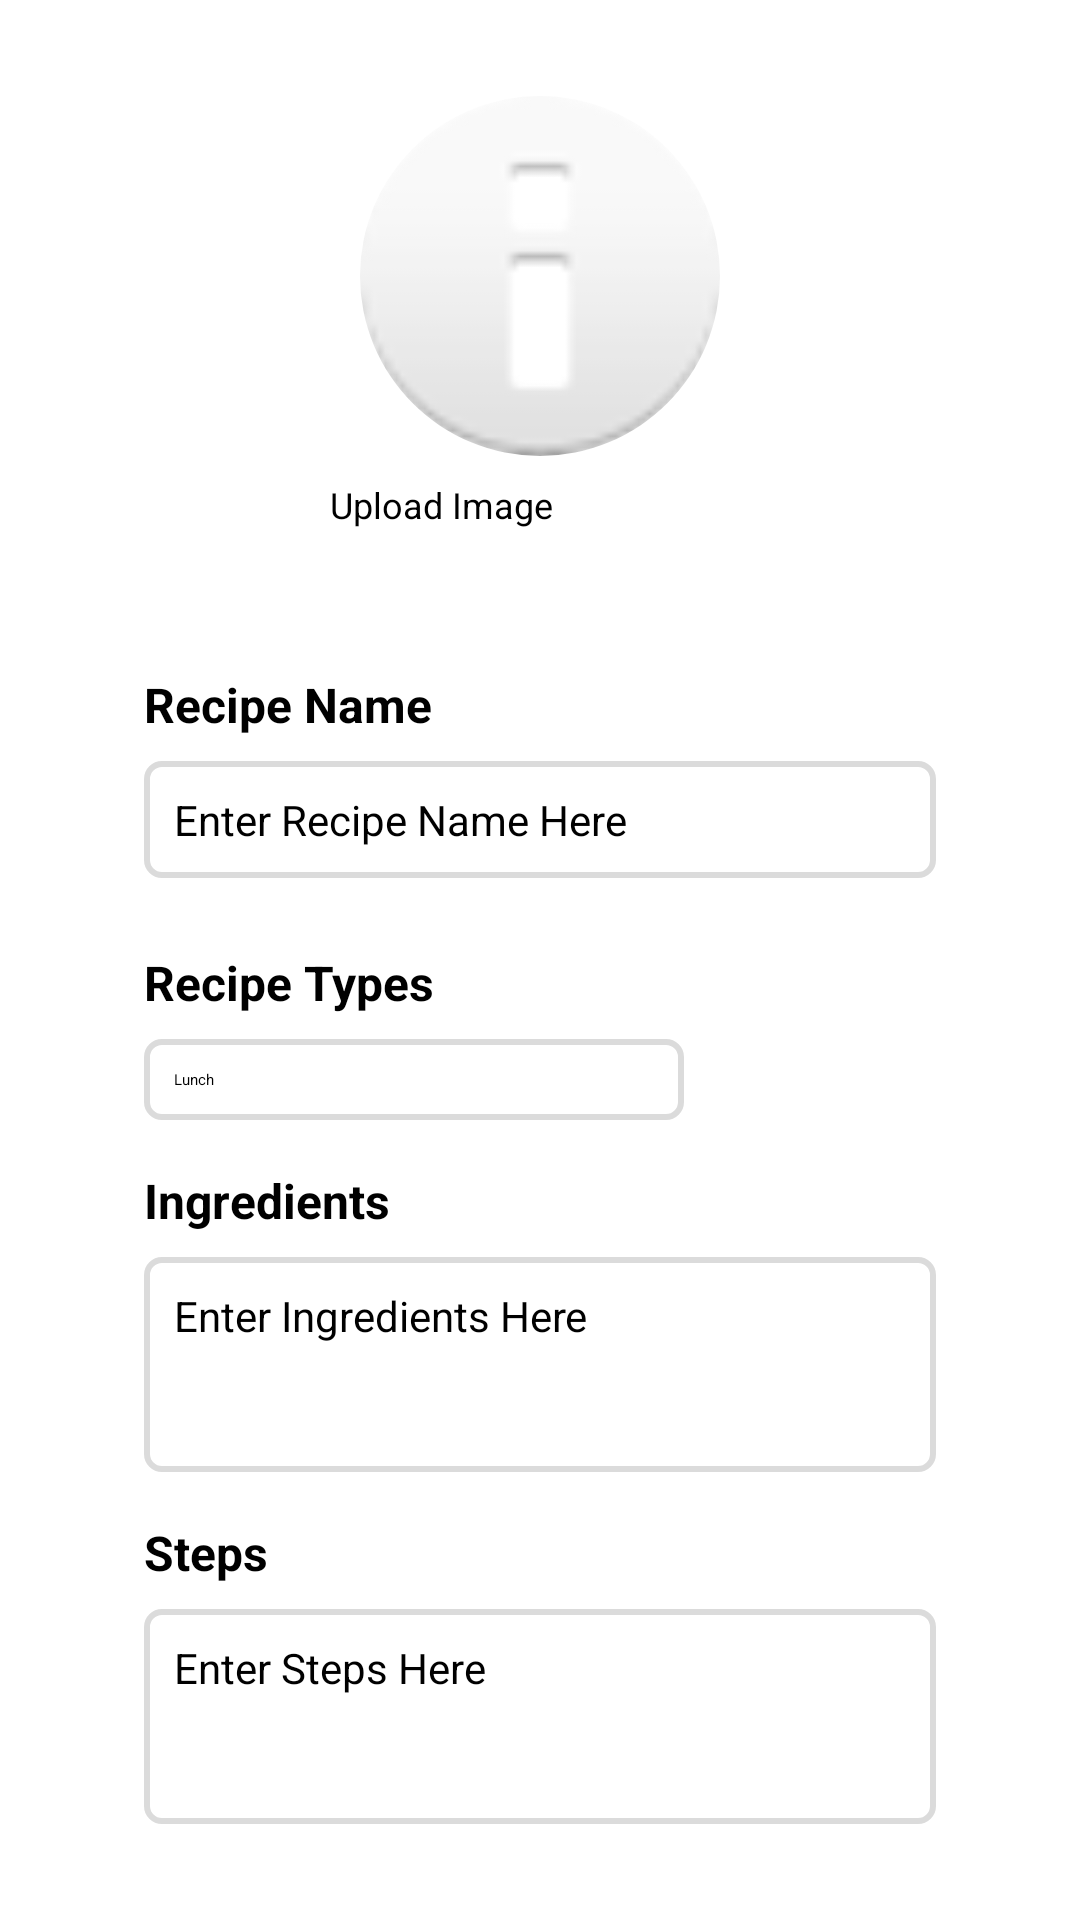

Point at icon controls on the screen. Image size 1080w x 1920h, points as (x,y).
info: (540,309)
